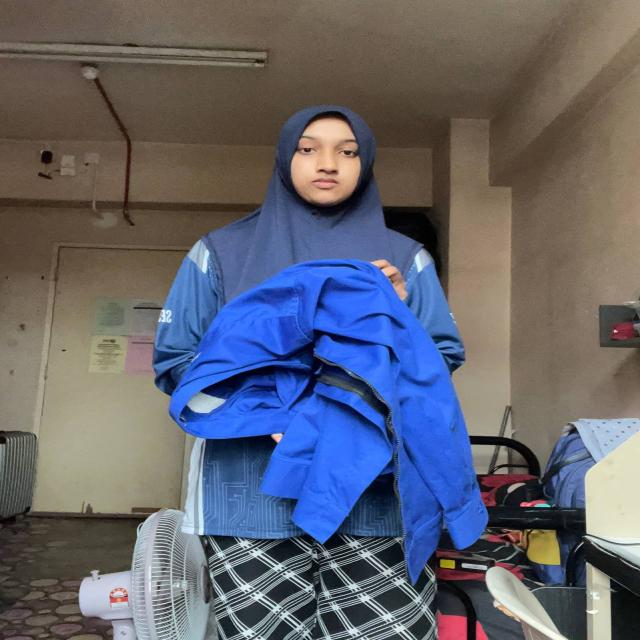person_without_labcoat: (154, 105, 487, 640)
